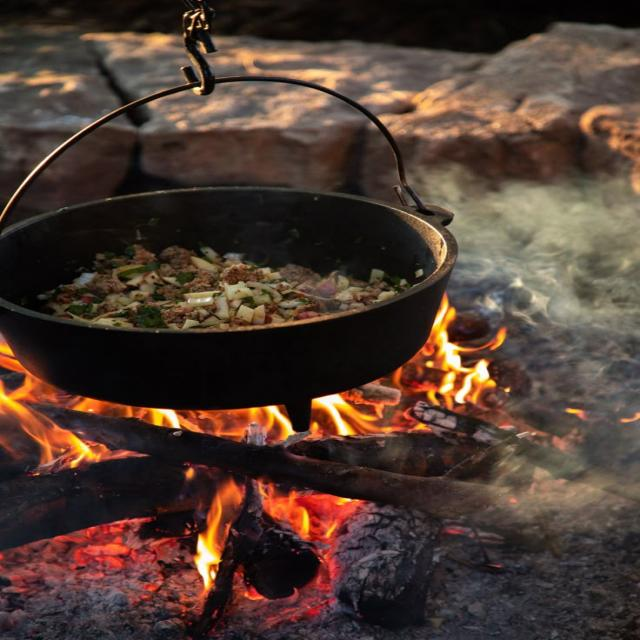fire: (187, 463, 370, 602), (342, 293, 510, 419), (0, 333, 105, 476), (107, 401, 292, 445), (498, 404, 640, 453), (303, 395, 437, 441)
